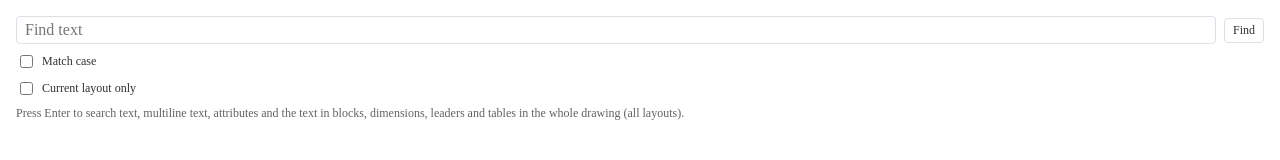
Test: AcUiFindPaletteView › whole drawing (default) vs current layout only › shows a scope-specific hint before the first search
The image size is (1280, 160).
Click the checkbox labelled "Current layout only": (26, 88) left=20, top=82, right=33, bottom=95
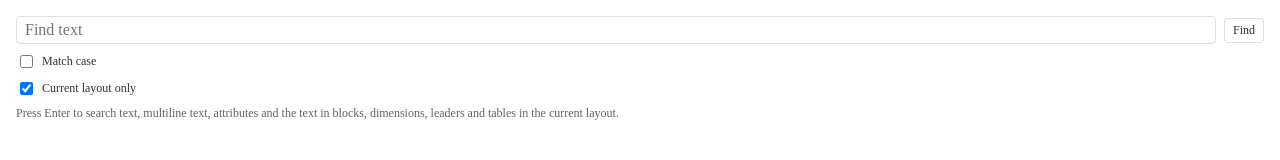
Expected: the message with class "ml-ex-ui-find-status" shows "Press Enter to search text, multiline text, attributes and the text in blocks, dimensions, leaders and tables in the current layout.", left=16, top=106, right=619, bottom=120
